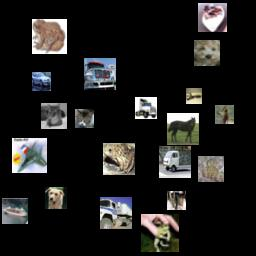airplane: (12, 138, 47, 173)
automobile: (32, 72, 51, 91)
cat: (41, 103, 67, 129), (167, 191, 186, 210), (75, 109, 94, 128)
deer: (215, 105, 234, 124)
dog: (194, 40, 220, 66), (45, 187, 67, 209)
frog: (141, 214, 179, 252), (32, 19, 67, 54), (103, 143, 135, 175), (198, 156, 224, 182)
ship: (198, 3, 227, 32), (2, 198, 28, 224)
truck: (84, 58, 116, 90), (100, 197, 132, 229), (159, 146, 191, 178), (135, 97, 157, 119), (186, 88, 202, 104)
